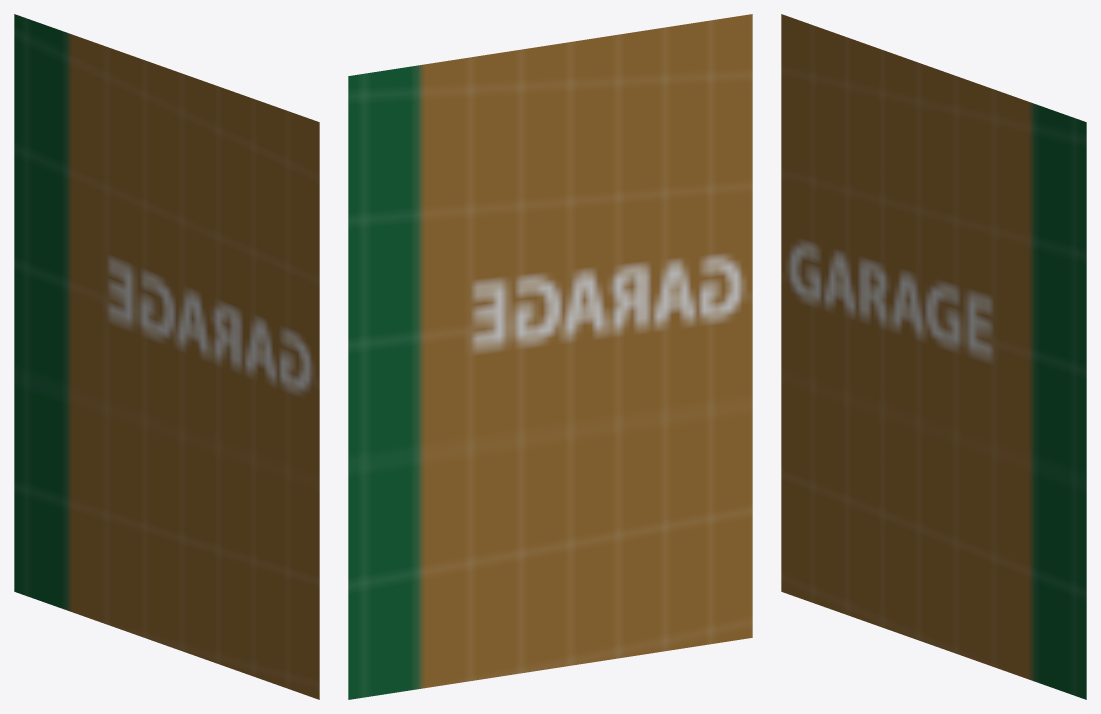
Rendered from ANYMA_Coachella_Stage_v013_LED_SR_GARAGE.glb.
The picture shows the model from 3 angles, left to right: view 1: azimuth 90°, elevation 25°; view 2: azimuth 150°, elevation 25°; view 3: azimuth 270°, elevation 25°; orthographic projection. The views are drawn at different scales.
Visible parts, largest first — view 1: LED_SR_GARAGE_FrontP.002; view 2: LED_SR_GARAGE_FrontP.002; view 3: LED_SR_GARAGE_FrontP.002.
Boxes of the visible parts, box(x1,y1,x2,y2) form: LED_SR_GARAGE_FrontP.002: box(14, 14, 319, 699); LED_SR_GARAGE_FrontP.002: box(348, 14, 752, 699); LED_SR_GARAGE_FrontP.002: box(781, 14, 1086, 699).
Bounding box in the file's own units: 3.86 × 9.6 × 4.6.
1 material, 1 textured.
